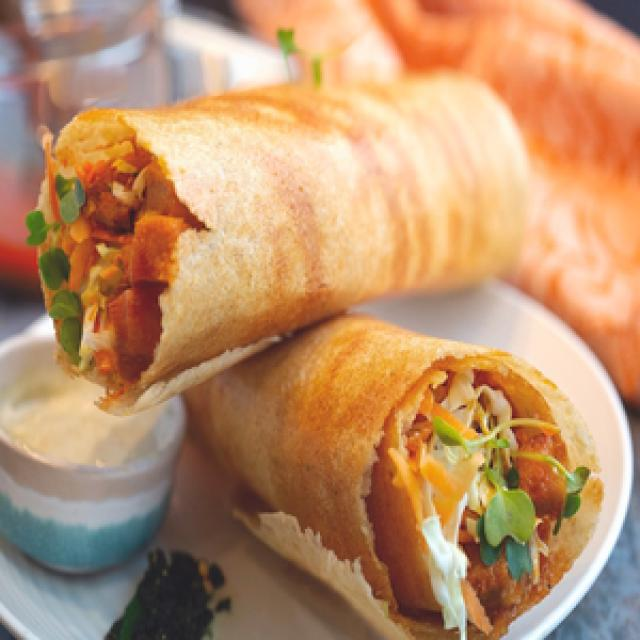dosa: (25, 59, 543, 402), (182, 306, 616, 640)
